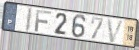2: (53, 13, 68, 37)
6: (71, 14, 87, 39)
7: (90, 16, 104, 41)
F: (34, 9, 53, 33)
I: (24, 6, 34, 33)
V: (106, 17, 126, 44)
